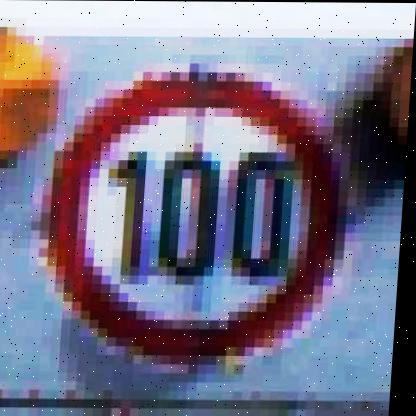Speed Limit -100-: (32, 62, 361, 376)
